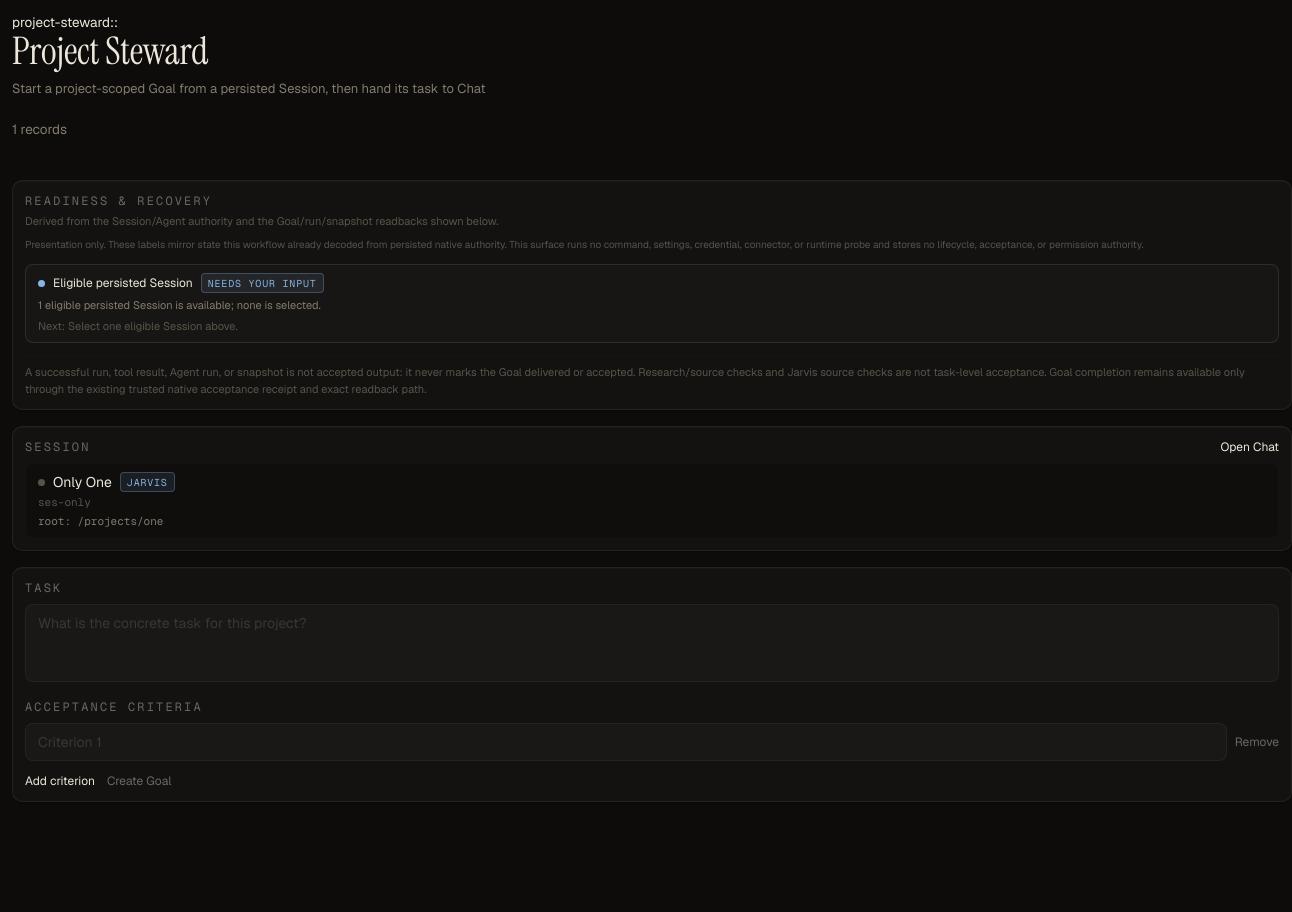
Test case: Project Steward deep link to Chat › preselects the exact Session when exactly one is eligible
The image size is (1292, 912).
Click the button "Open Chat": [1250, 447] box x1=1220 y1=439 x2=1279 y2=455
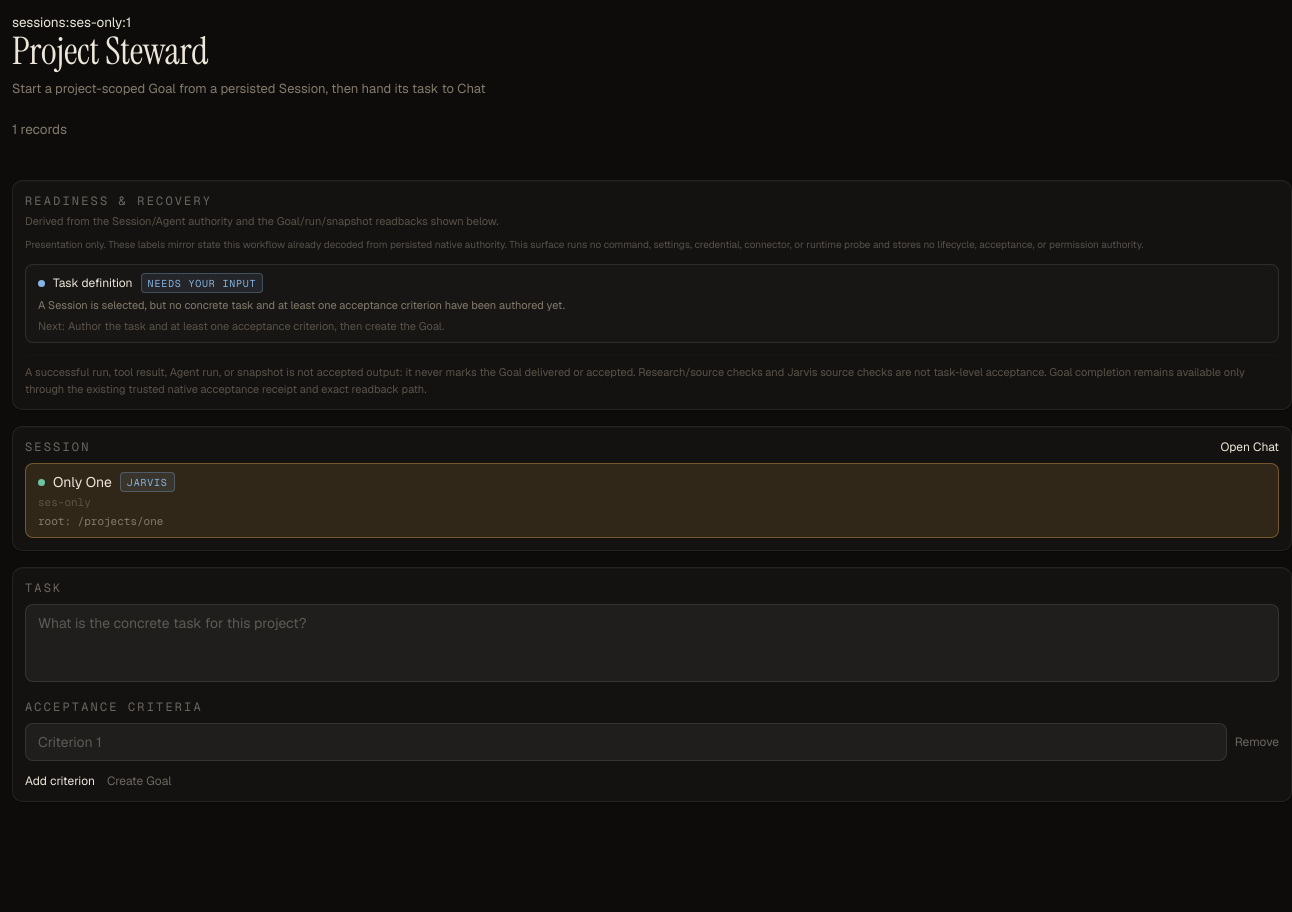
Now the text with test id "route-probe" reads "sessions:ses-only:1", box x1=12 y1=13 x2=131 y2=31
